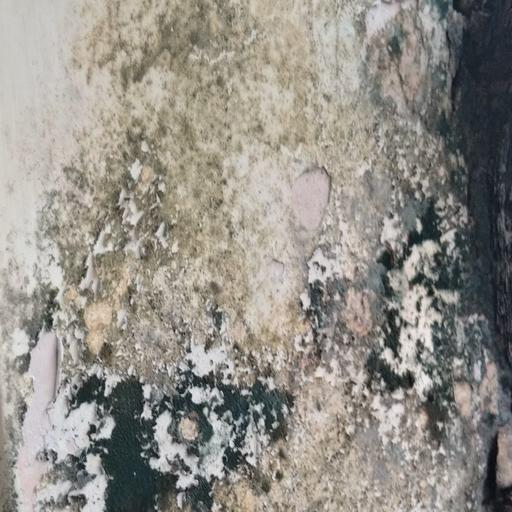algae: (69, 5, 511, 512)
